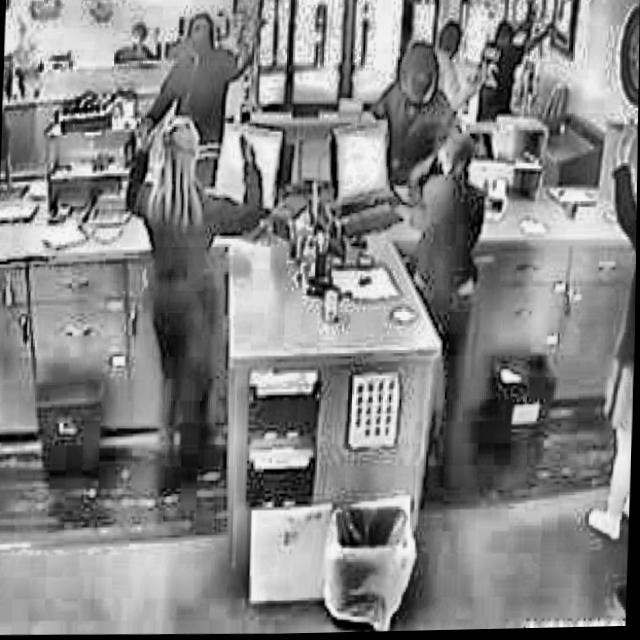robbery: (118, 108, 274, 245), (356, 35, 463, 215), (153, 3, 268, 125), (442, 0, 559, 113)
